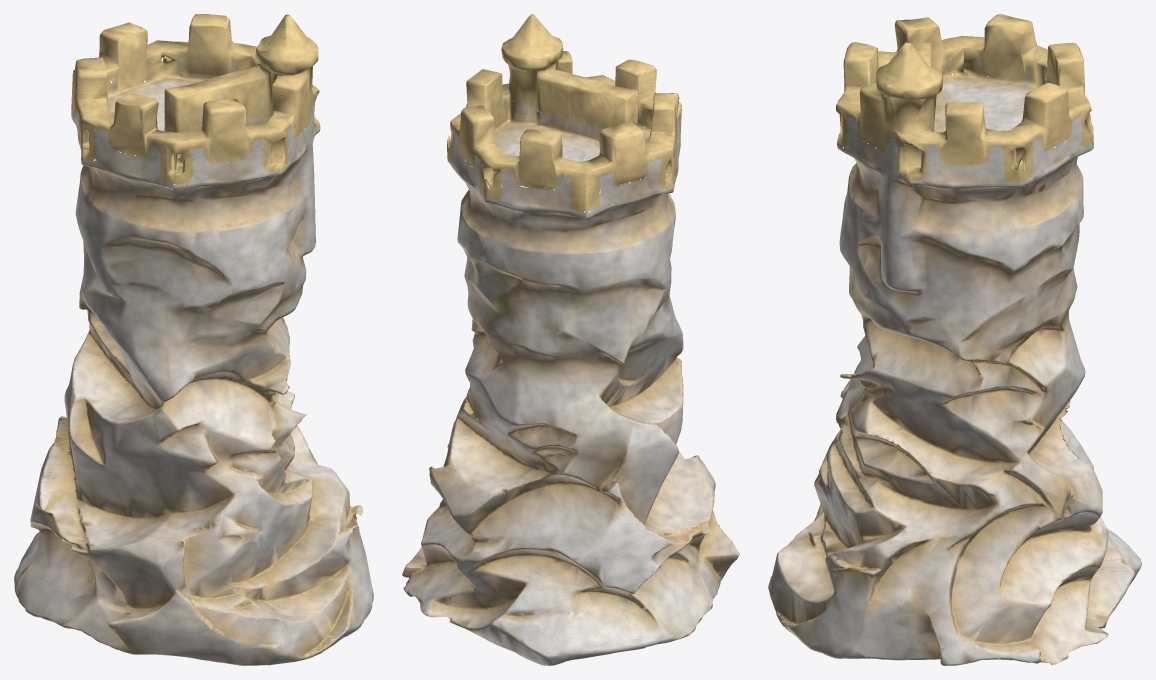
Rendered from rook-white-hd.glb.
3 views of the same model, side by side, from view 1: azimuth 30°, elevation 25°; view 2: azimuth 150°, elevation 25°; view 3: azimuth 270°, elevation 25° (orthographic). The views are drawn at different scales.
Visible parts, largest first — view 1: Argent Reliquary – White Rook; view 2: Argent Reliquary – White Rook; view 3: Argent Reliquary – White Rook.
Boxes of the visible parts, x1,y1,x2,y2 form: Argent Reliquary – White Rook: (14, 14, 373, 665); Argent Reliquary – White Rook: (402, 14, 739, 665); Argent Reliquary – White Rook: (768, 14, 1141, 665).
Bounding box in the file's own units: 0.6234 × 1.17 × 0.6583.
2 materials, 2 textured.
